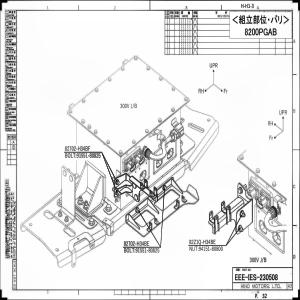PartNumber: (76, 152, 102, 160), (188, 238, 216, 245), (123, 239, 150, 246), (64, 145, 91, 151), (135, 248, 160, 254), (199, 246, 224, 252)
